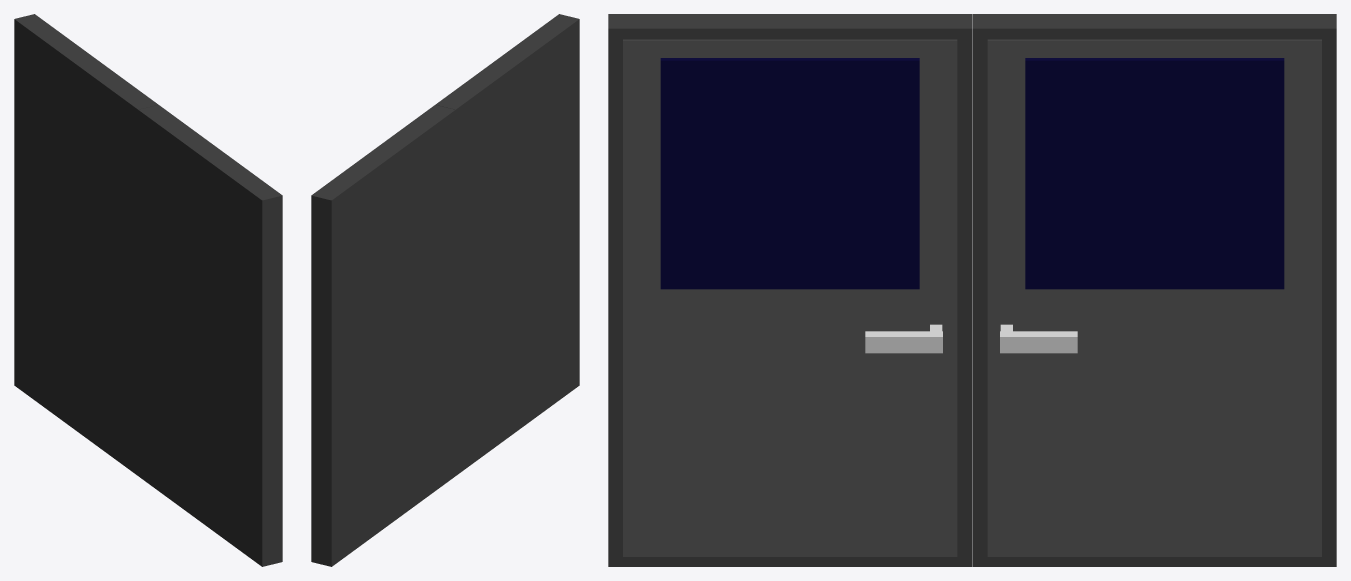
The model's file is doors.glb.
3 renders of one model, left to right at view 1: azimuth 30°, elevation 25°; view 2: azimuth 150°, elevation 25°; view 3: azimuth 270°, elevation 25°, orthographic. The views are drawn at different scales.
Parts seen in each view (by area): view 1: Cube.001, Cube.008; view 2: Cube.008, Cube.001; view 3: Cube, Cube.009, Cube.002, Cube.007, Cube.001, Cube.008, Cube.004, Cube.005.
Boxes of the visible parts, x1,y1,x2,y2 form: Cube.001: [138, 105, 282, 566]; Cube.008: [14, 14, 158, 475]; Cube.008: [311, 105, 455, 566]; Cube.001: [435, 14, 579, 475]; Cube: [623, 39, 957, 556]; Cube.009: [987, 39, 1321, 556]; Cube.002: [660, 58, 919, 289]; Cube.007: [1025, 58, 1284, 289]; Cube.001: [608, 14, 972, 566]; Cube.008: [972, 14, 1336, 566]; Cube.004: [865, 331, 942, 353]; Cube.005: [1000, 331, 1077, 353].
Size of the model in its own units: 0.9221 by 8.12 by 9.97.
